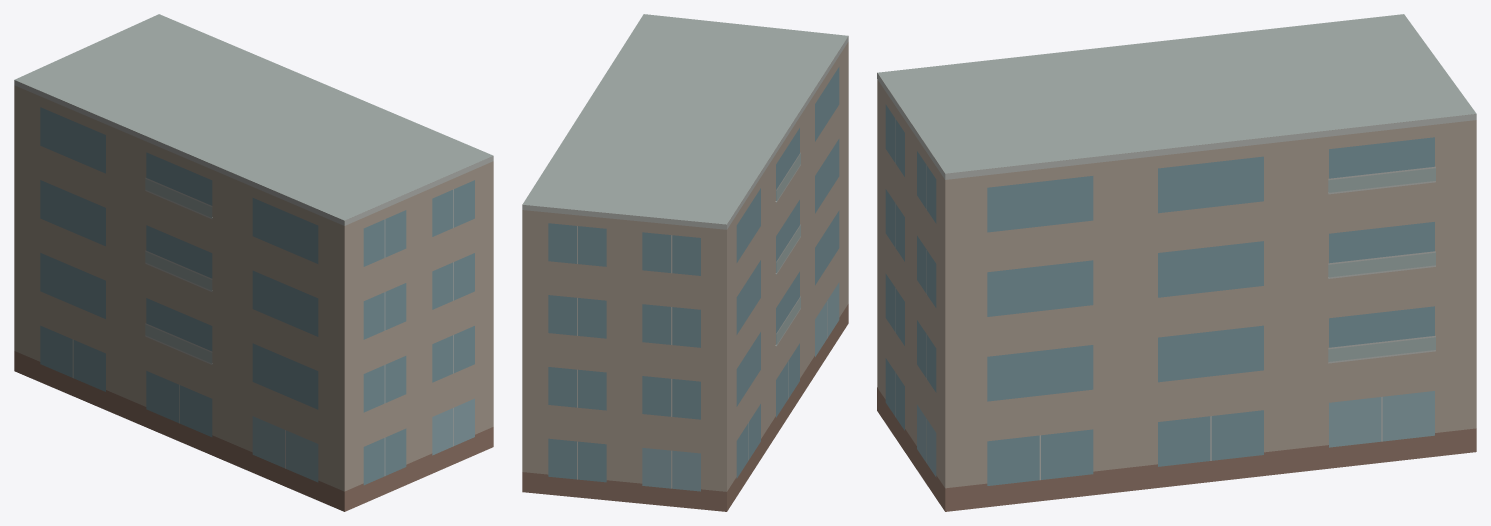
File: survey-upis-32813182.glb
3 views of the same model, side by side, from view 1: azimuth 30°, elevation 25°; view 2: azimuth 150°, elevation 25°; view 3: azimuth 270°, elevation 25° (orthographic). The views are drawn at different scales.
Parts seen in each view (by area): view 1: survey-upis-32813182.tmp; view 2: survey-upis-32813182.tmp; view 3: survey-upis-32813182.tmp.
Part boxes in pixels (x1,y1,x2,y2): survey-upis-32813182.tmp: (14,14,493,511); survey-upis-32813182.tmp: (522,14,848,511); survey-upis-32813182.tmp: (877,14,1476,511).
Size of the model in its own units: 13.48 by 13.3 by 21.38.
